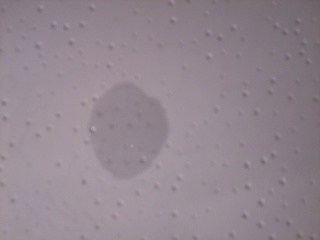Water_detected: (83, 83, 161, 168)
